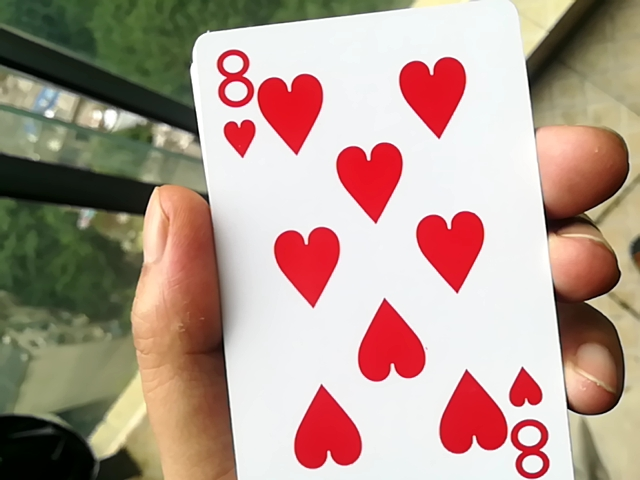hx 8: (188, 10, 559, 480)
